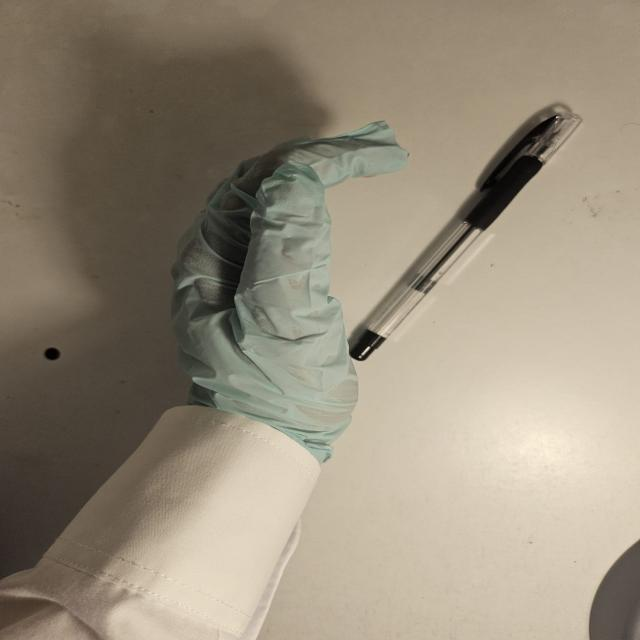gloves_damaged: (168, 114, 413, 472)
